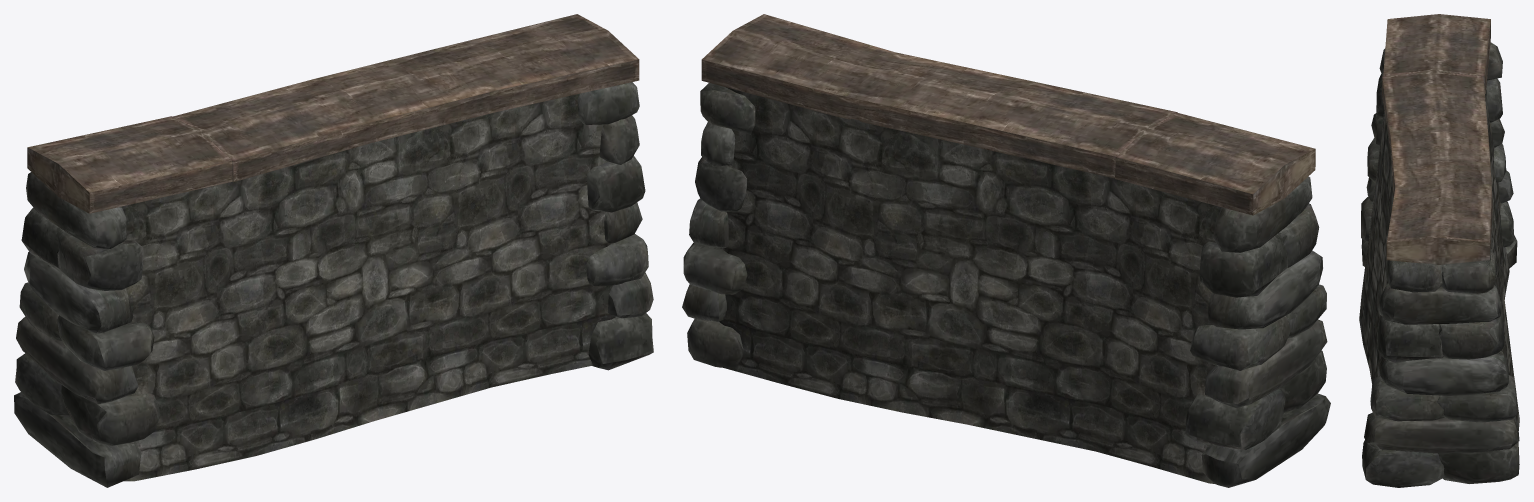
Rendered from jav_struc_def_Stone_t2_Wall_A_bot_A-transformed.glb.
3 views of the same model, side by side, from view 1: azimuth 30°, elevation 25°; view 2: azimuth 150°, elevation 25°; view 3: azimuth 270°, elevation 25° (orthographic). The views are drawn at different scales.
Visible parts, largest first — view 1: default; view 2: default; view 3: default.
Boxes of the visible parts, box(x1,y1,x2,y2) form: default: box(14, 14, 653, 487); default: box(682, 14, 1330, 487); default: box(1359, 14, 1519, 487).
Bounding box in the file's own units: 8.24 × 4.19 × 2.44.
3 materials, 3 textured.
